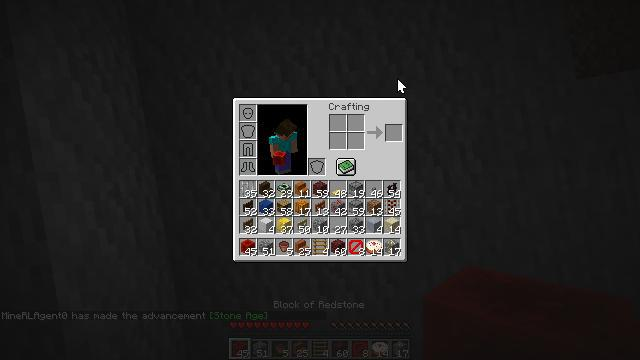cursor: (397, 78, 407, 94)
